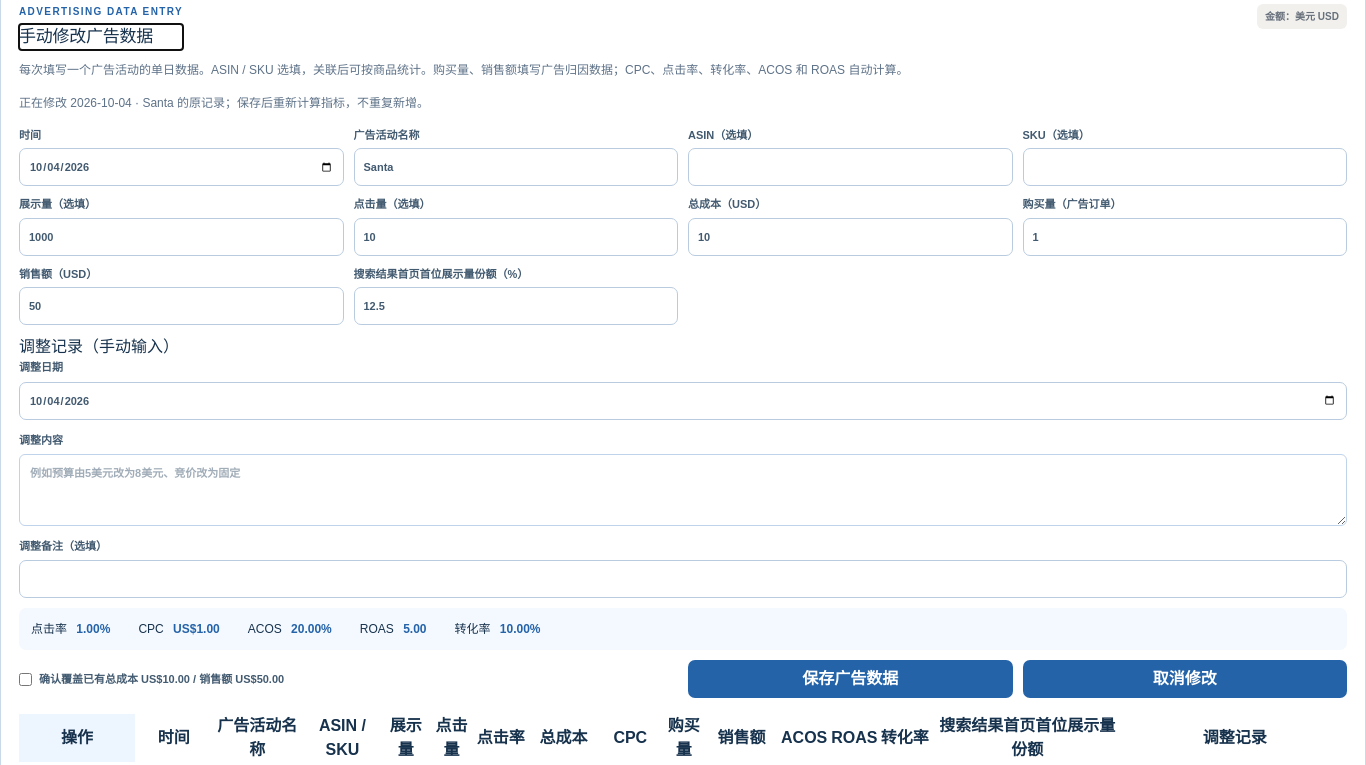
Scenario: preloads an explicitly selected record and keeps its key when changing its identity
(page scrolled)
Expected: the field labelled "广告活动名称" holds "Santa", x1=354 y1=148 x2=678 y2=186
Expected: the number field named "搜索首页首位展示份额（%）" holds "12.5", x1=354 y1=287 x2=678 y2=325
Type "2026-10-05" into the date field named "广告日期" at (181, 167), box x1=19 y1=148 x2=344 y2=186
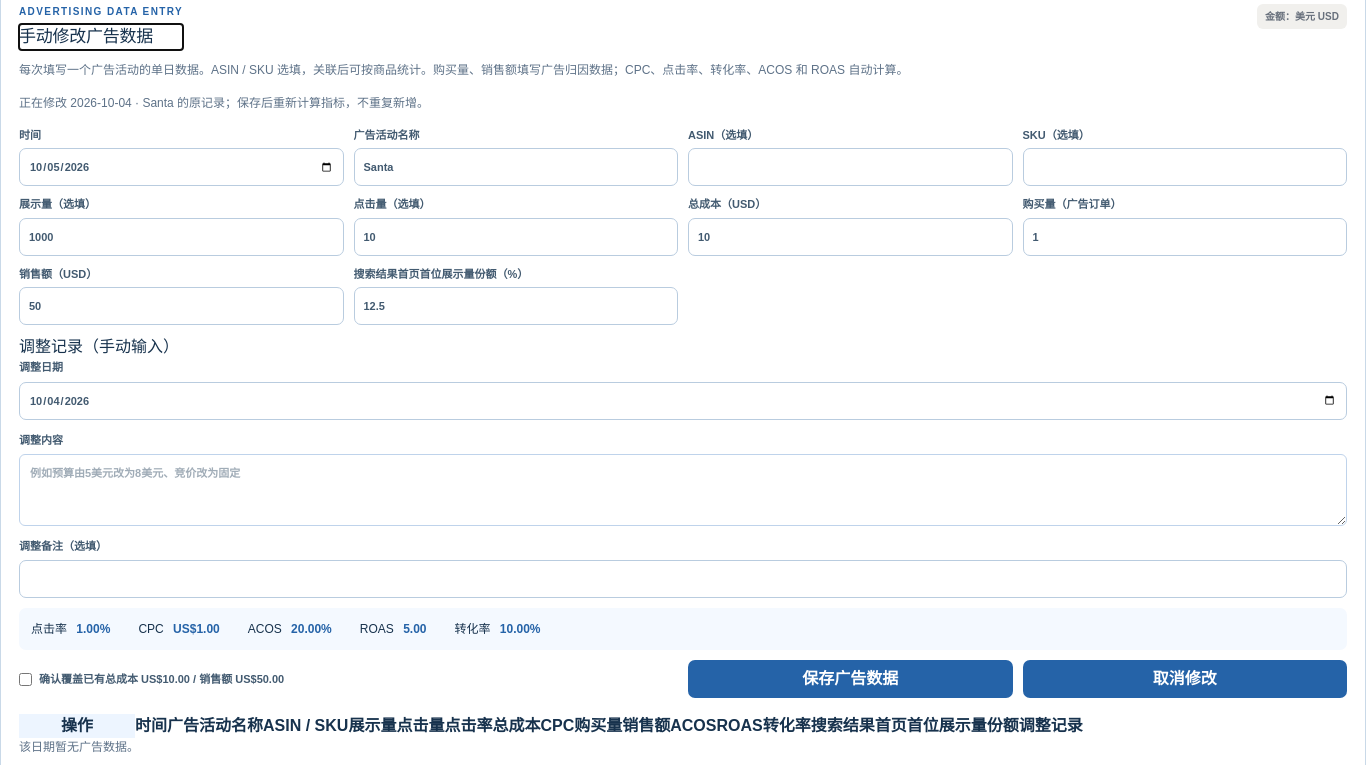
Replace the text in the field labelled "广告活动名称" with "Santa Revised" at (516, 167), box x1=354 y1=148 x2=678 y2=186
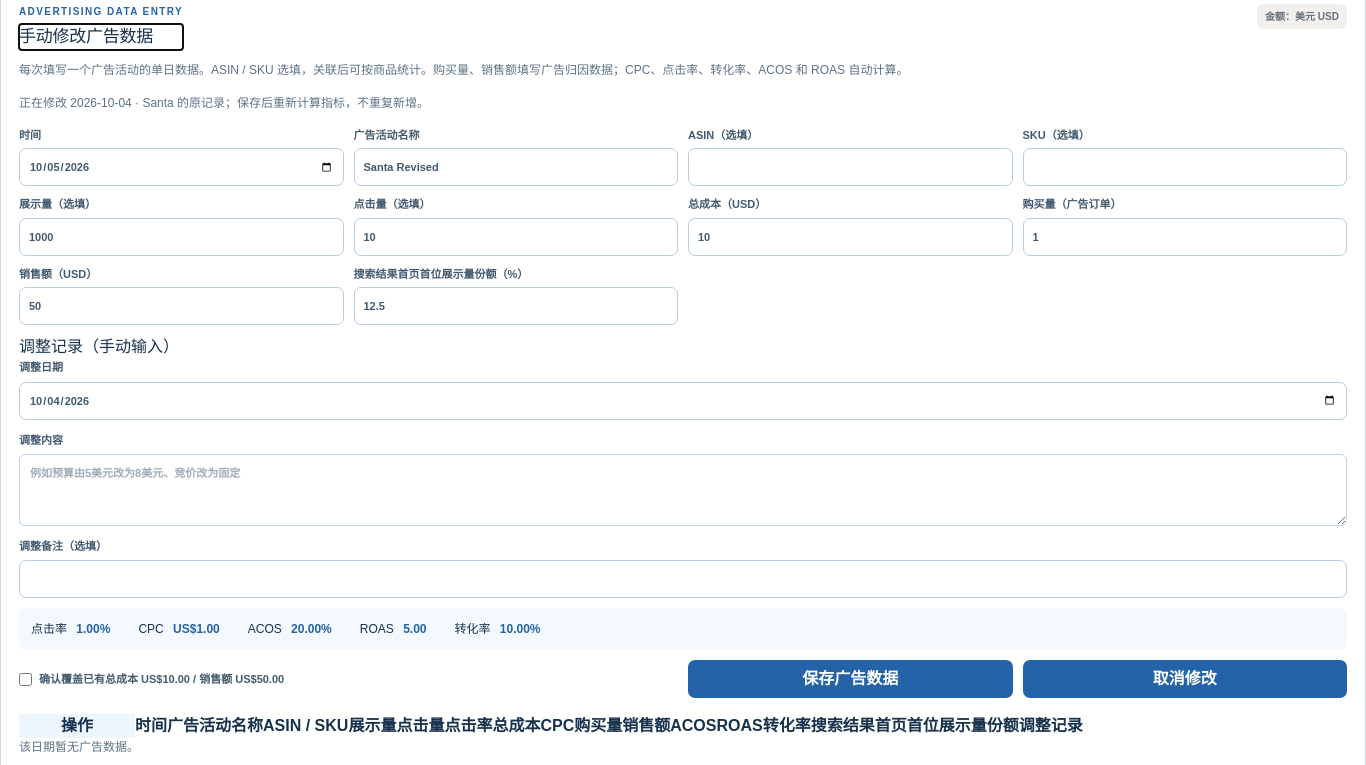
Replace the text in the number field named "广告花费（USD）" with "15" at (850, 237), box x1=688 y1=218 x2=1012 y2=256
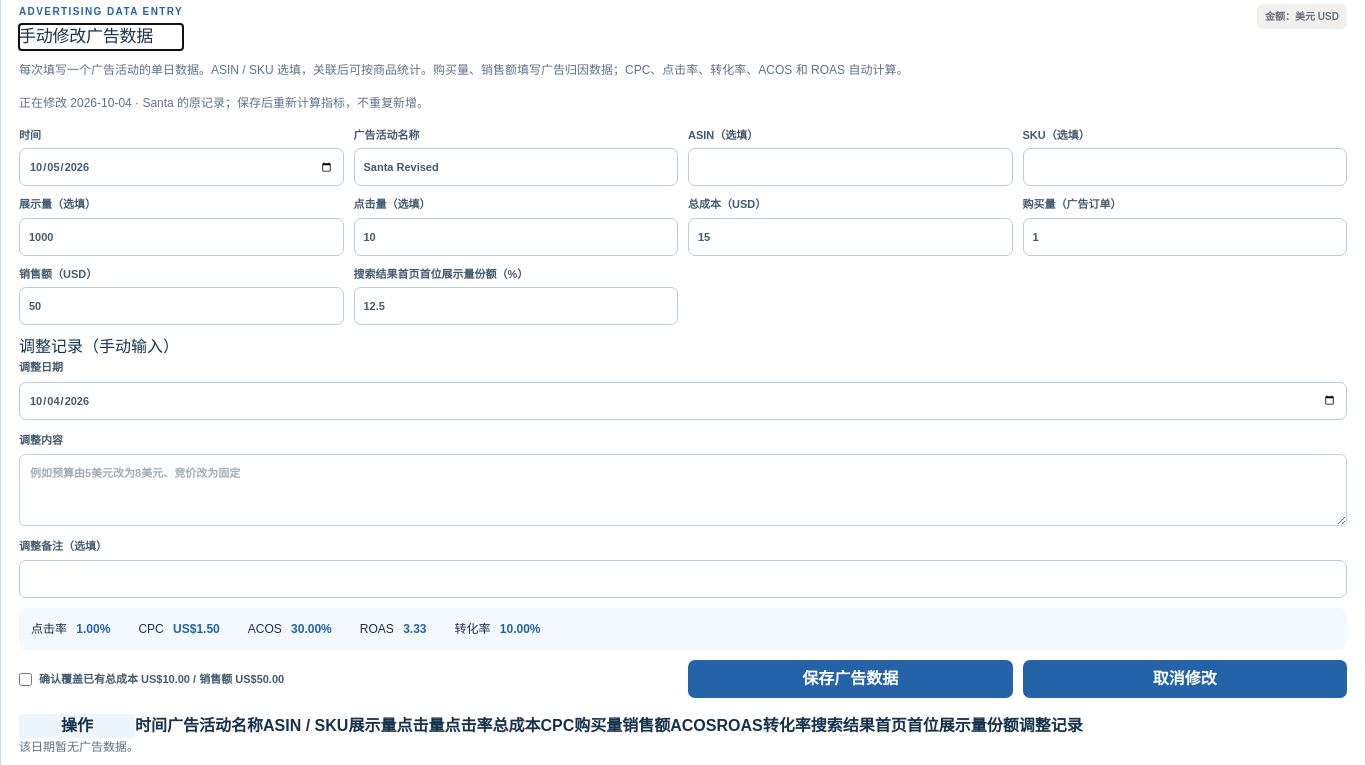
Click the checkbox labelled "确认覆盖已有总成本 US$10.00 / 销售额 US$50.00" at (26, 679), box x1=19 y1=673 x2=32 y2=686
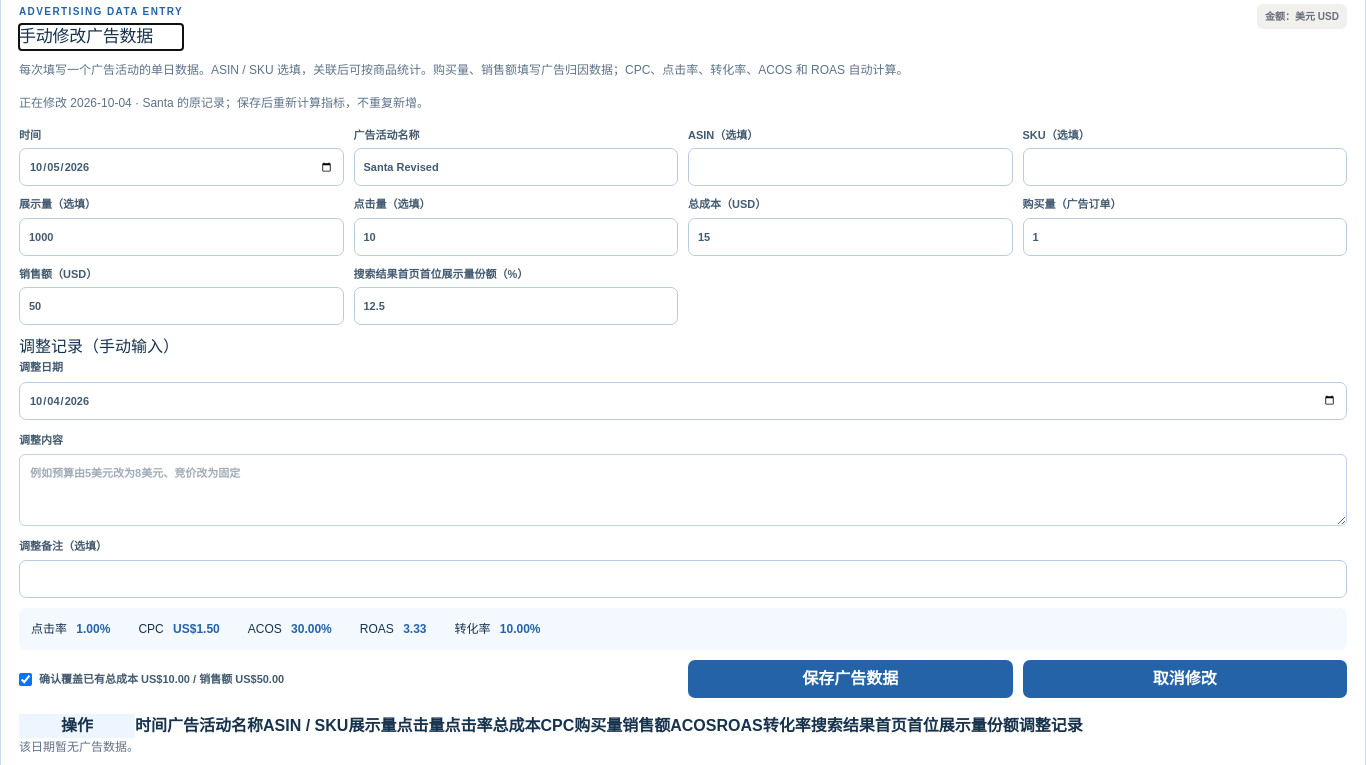
Click the button "保存广告数据" at (850, 679), box x1=688 y1=660 x2=1012 y2=698
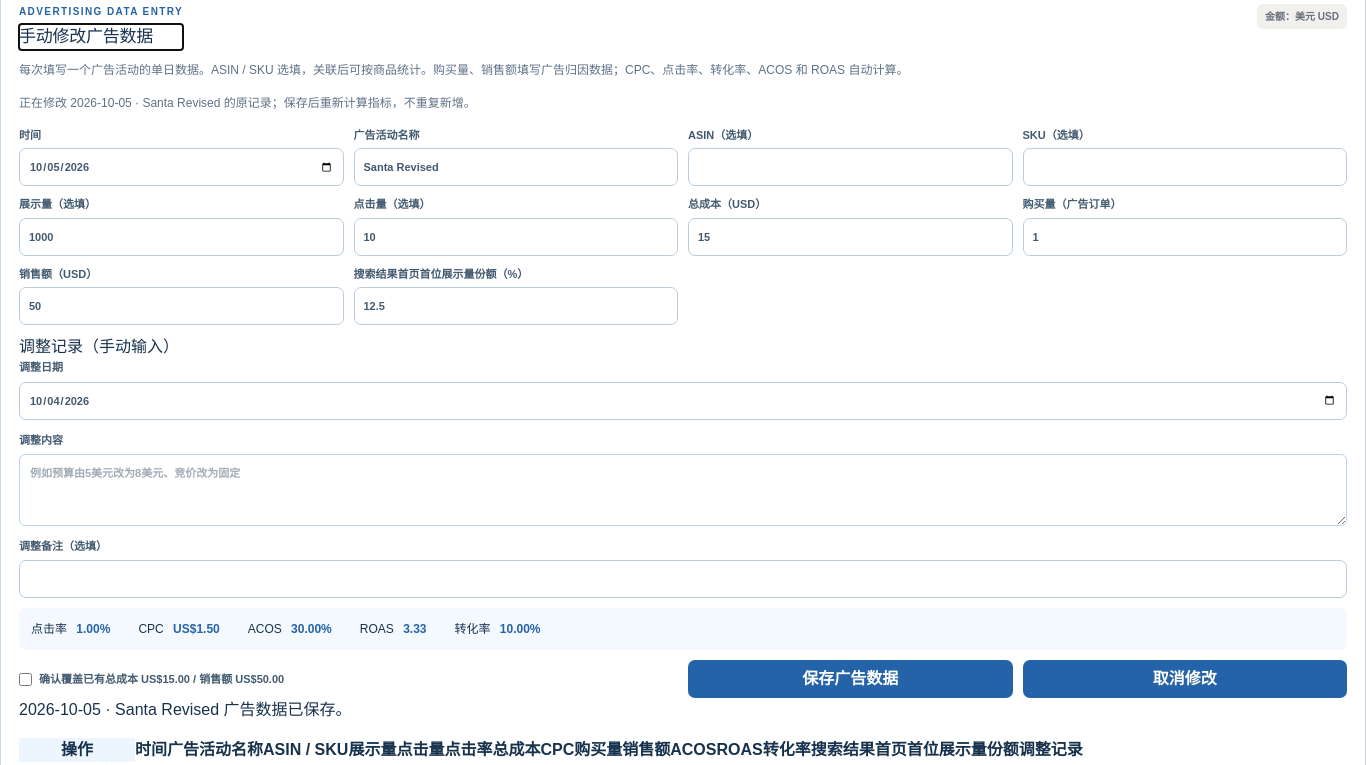
Expected: the text "2026-10-05 · Santa Revised 广告数据已保存。" is shown, x1=19 y1=701 x2=352 y2=718
